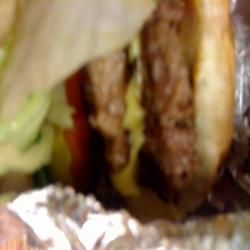burger: (41, 1, 248, 226)
